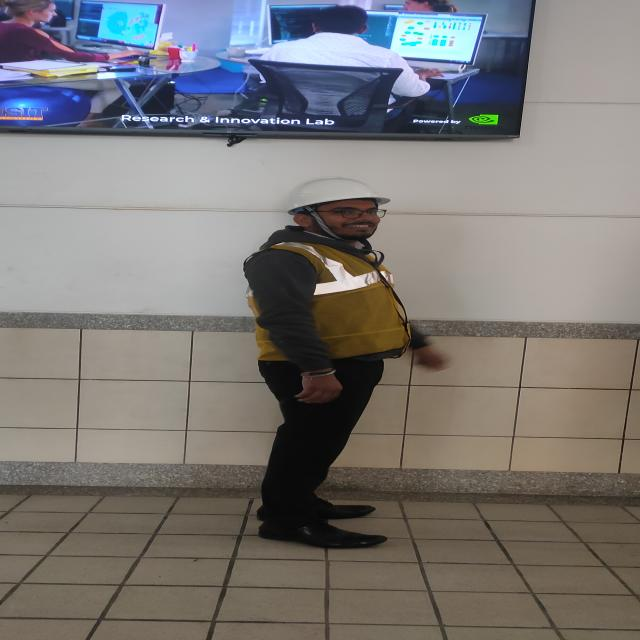safe: (243, 177, 412, 548)
